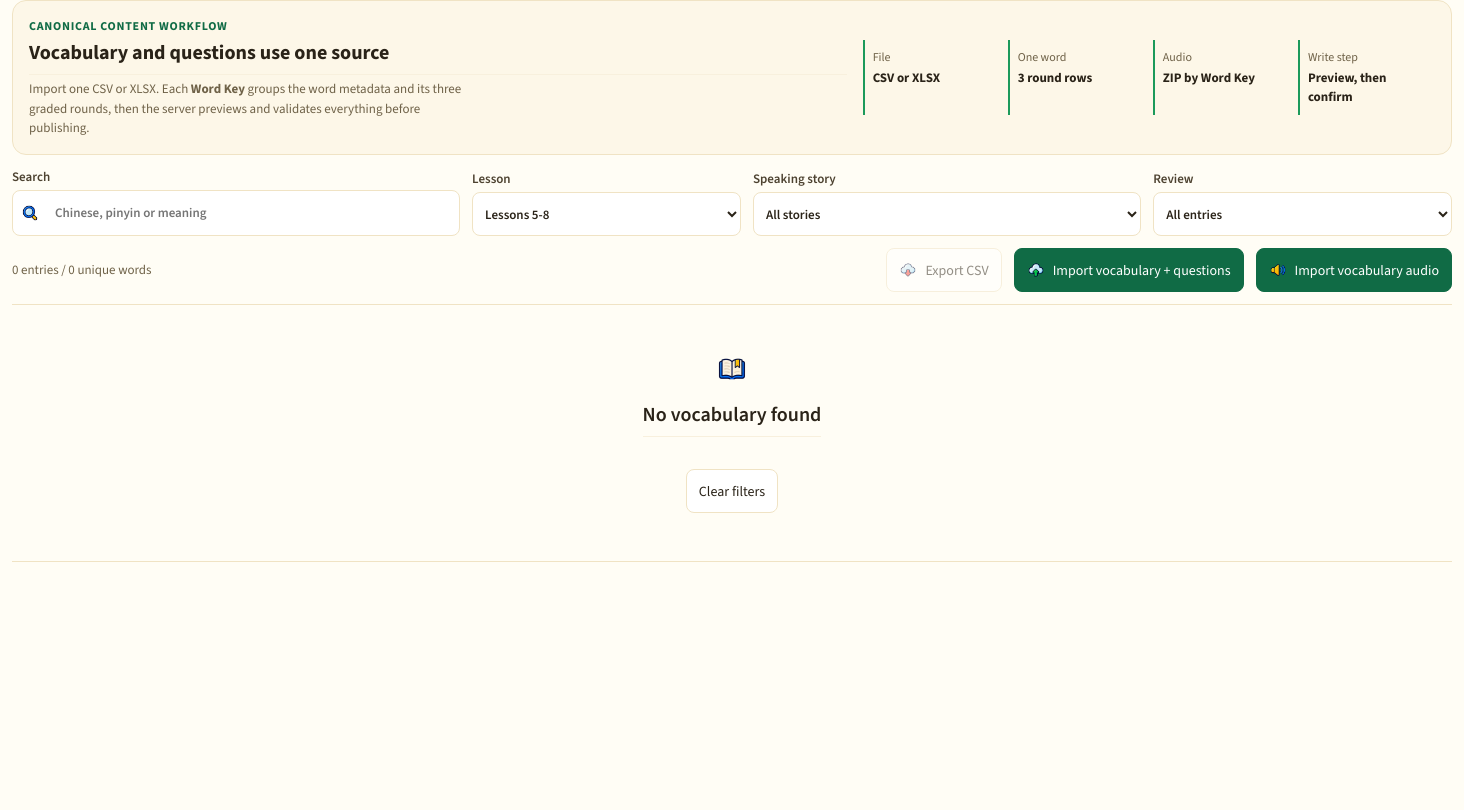
it: Admin vocabulary page › includes stories without lesson metadata in the unassigned filter
Expected: the heading "No vocabulary found" is shown, [643,401,821,437]
Select "Unassigned" in the dropdown labelled "Lesson" at (606, 214), box [472,192,741,236]
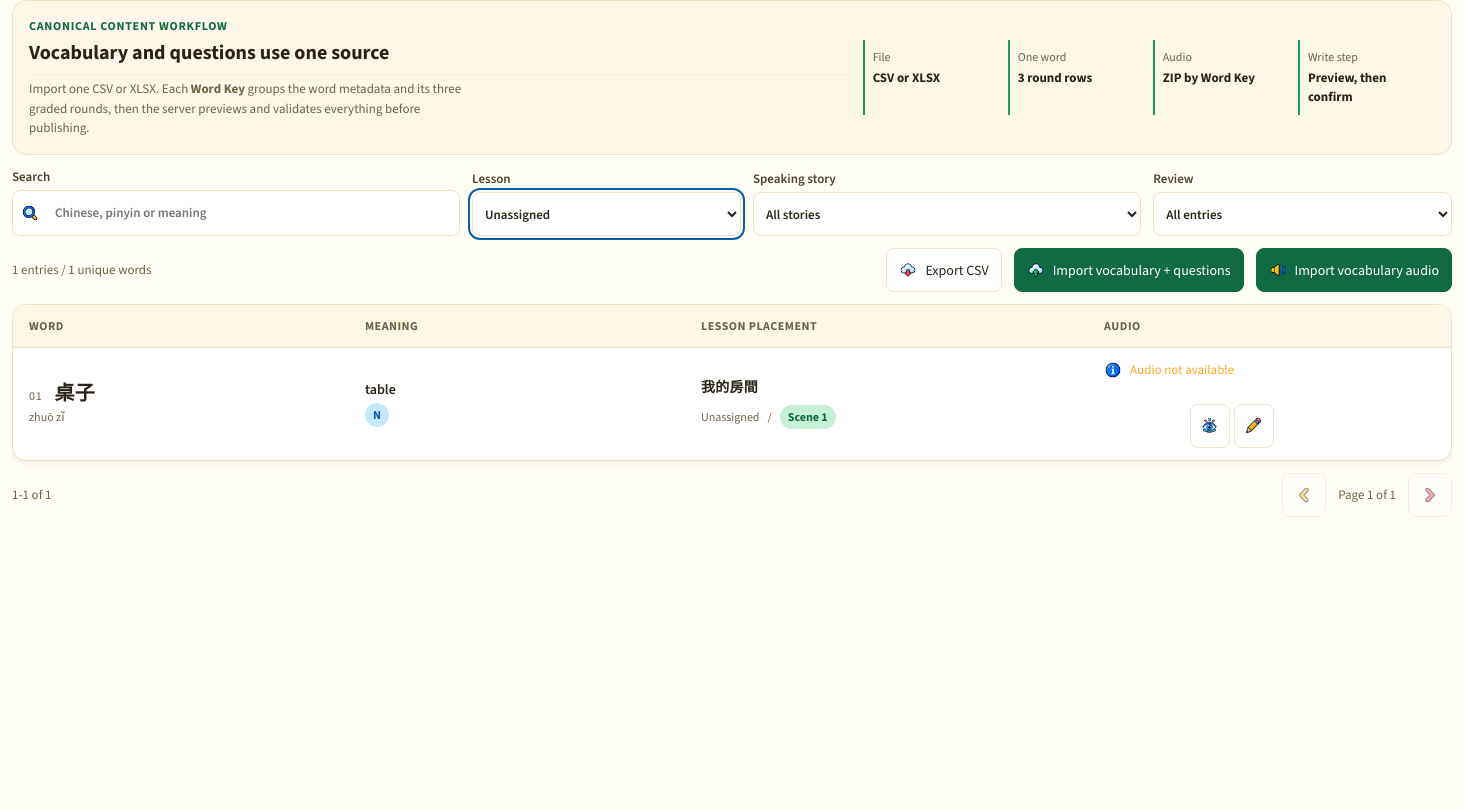
Result: the text "1 entries / 1 unique words" is shown at [12,260,152,280]
